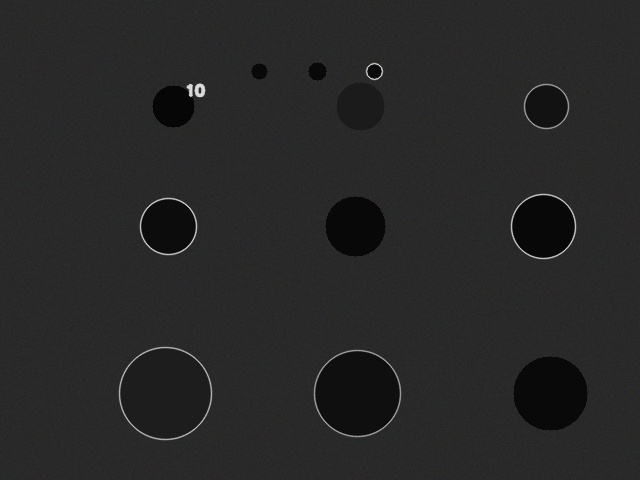hole: (119, 347, 211, 439), (314, 350, 400, 436), (513, 356, 587, 430), (511, 194, 575, 258), (325, 196, 385, 256), (140, 198, 196, 254), (336, 82, 384, 130), (524, 84, 568, 128), (152, 85, 194, 127), (308, 62, 326, 80), (251, 63, 267, 79), (366, 63, 382, 79)
